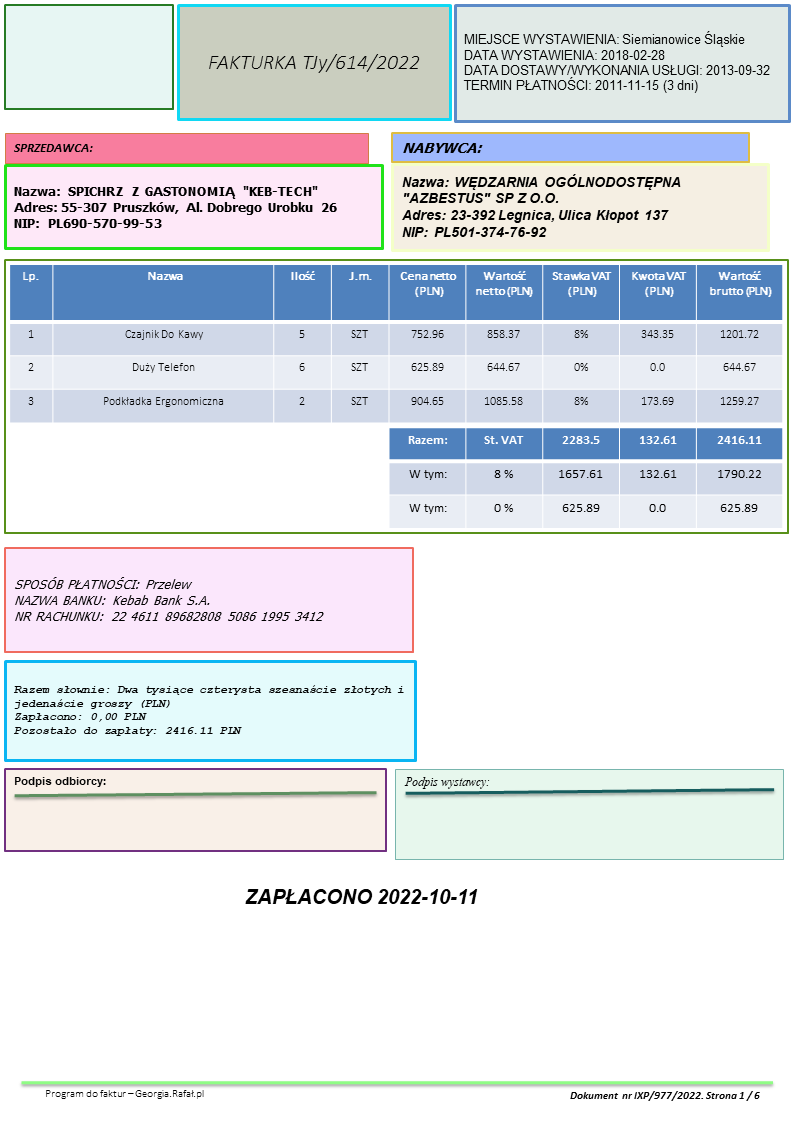Table: (8, 263, 783, 423), (388, 426, 784, 529)
TextBox: (12, 683, 404, 738), (461, 30, 772, 96), (399, 173, 683, 239), (12, 183, 338, 232), (11, 575, 325, 624), (242, 884, 480, 907), (205, 52, 420, 73), (567, 1089, 761, 1103), (42, 1087, 206, 1101), (401, 772, 490, 791), (11, 773, 108, 790), (10, 139, 94, 157), (400, 139, 484, 156)
